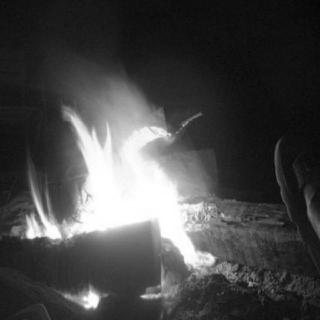Fire: (8, 88, 230, 282)
